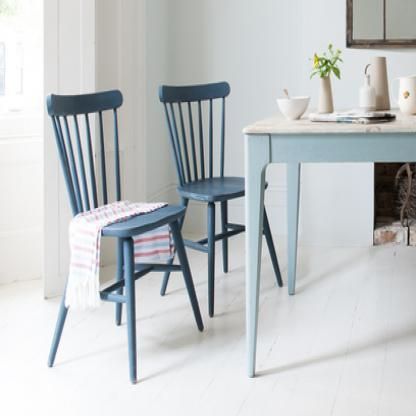chair: (32, 89, 181, 378), (159, 68, 282, 306)
table: (240, 114, 416, 394)
